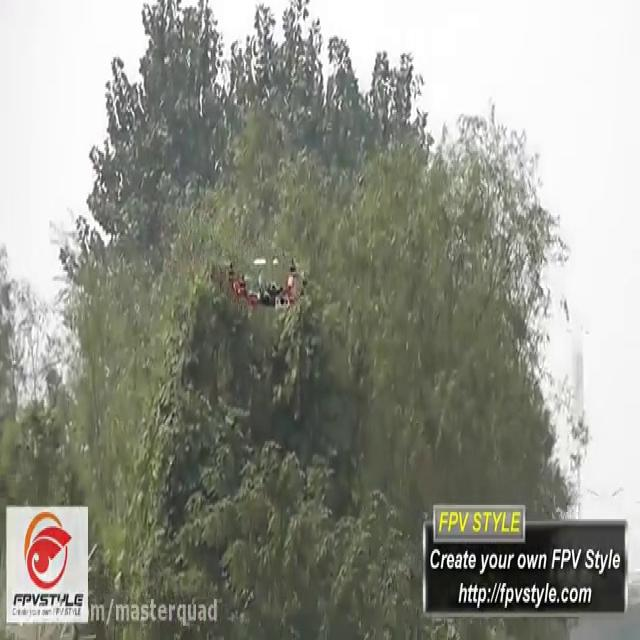drone: (222, 245, 314, 311)
